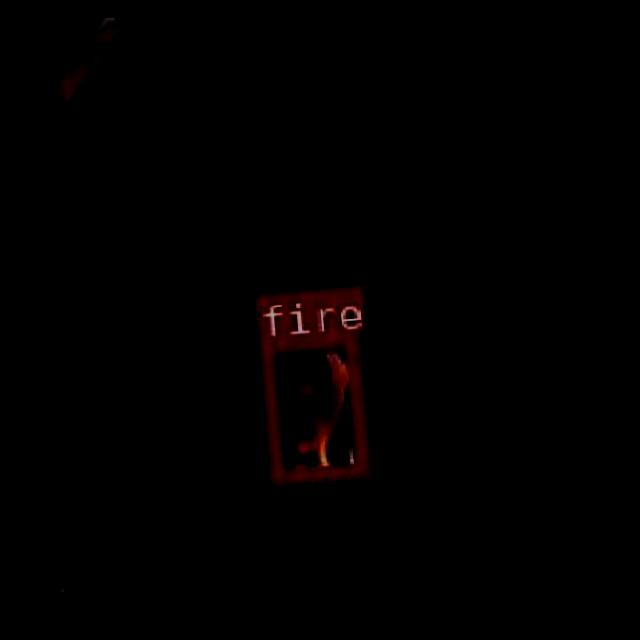fire: (258, 331, 366, 482)
